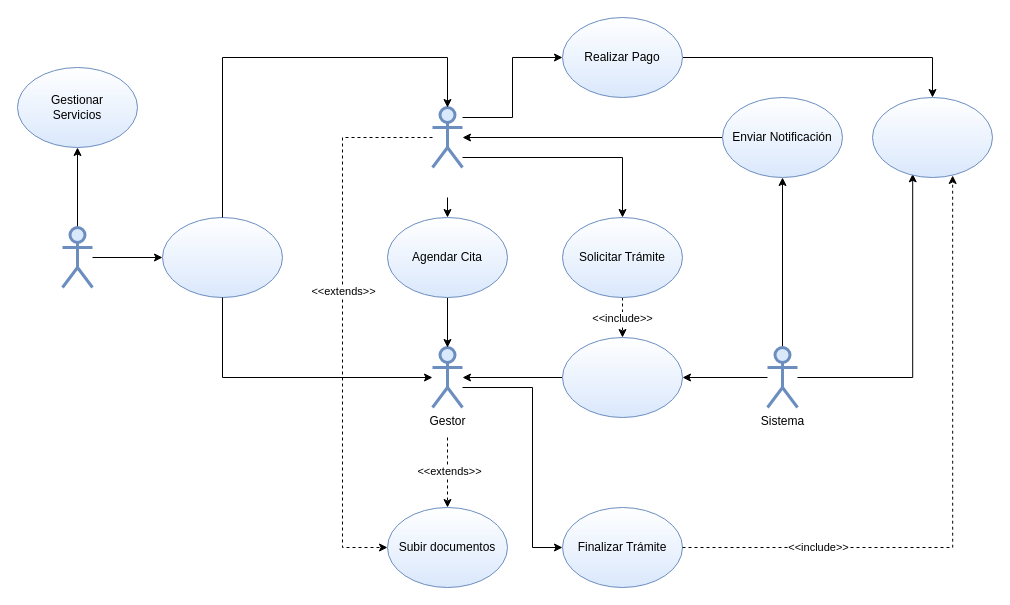
This 1010x605 diagram has some shape labels left out. The shapes that lost their labels are listed below. From the top down, each one's centre as x and y in pixels, then its label:
At (447,137): "Cliente".
At (932,137): "Generar Factura".
At (77,257): "Administrador".
At (222,257): "Administrar Usuarios".
At (622,377): "Asignar gestor".
